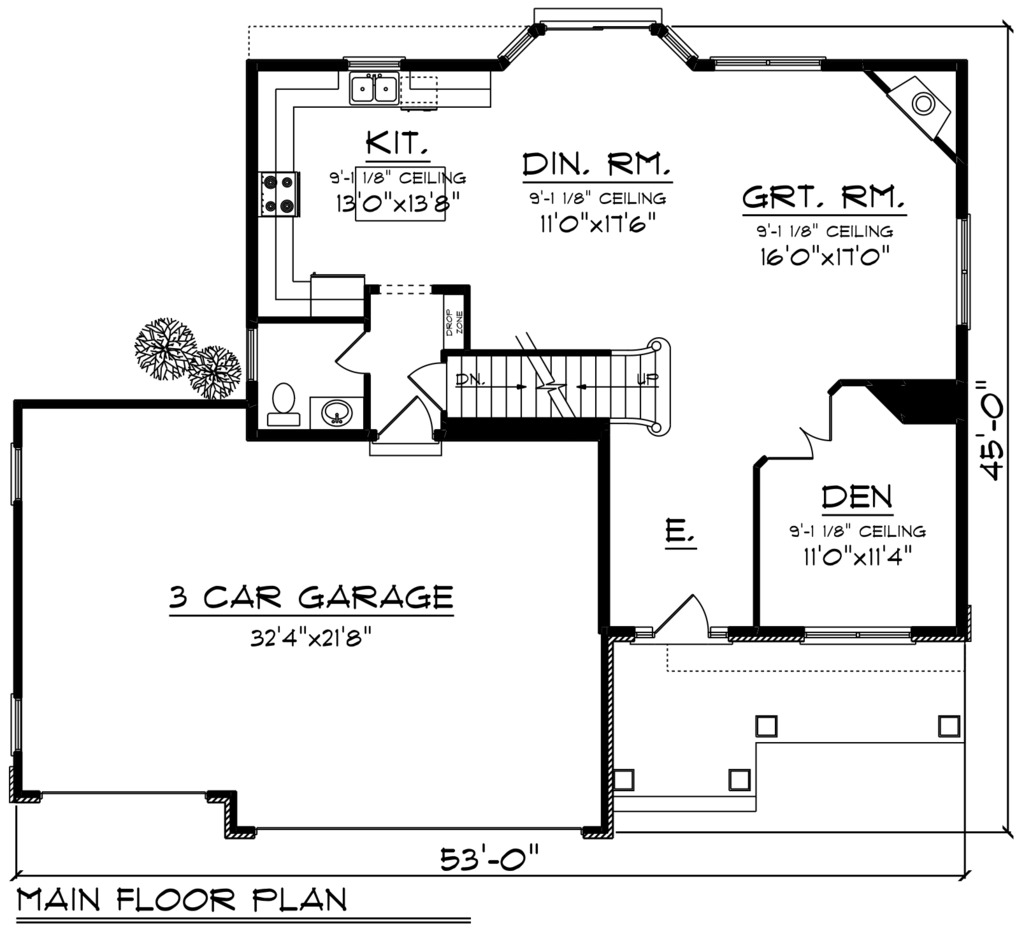door: (753, 389, 842, 466), (375, 395, 446, 460), (656, 592, 726, 650), (405, 353, 450, 408), (339, 324, 381, 376)
large_sink: (257, 373, 311, 427)
small_sink: (314, 379, 366, 437)
stairs: (450, 344, 686, 449)
twin_sink: (343, 57, 413, 120)
window: (492, 8, 544, 78), (653, 12, 704, 83), (953, 217, 981, 325), (798, 617, 923, 636), (227, 330, 265, 379), (713, 56, 824, 72), (2, 696, 28, 763), (1, 442, 26, 497)
